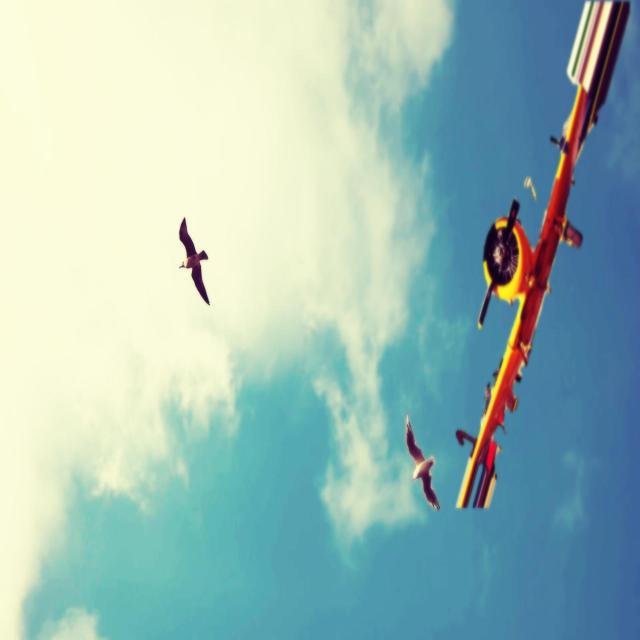airplane: (454, 0, 631, 509)
